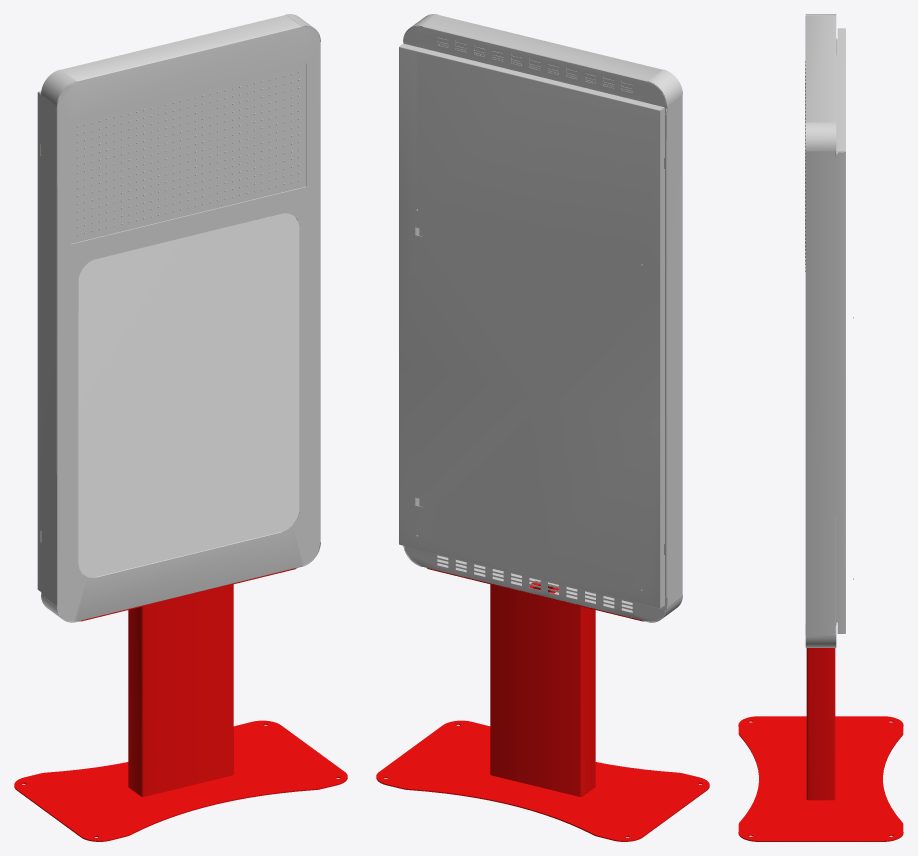
File: ledli-reklam-paneli.glb
3 renders of one model, left to right at view 1: azimuth 30°, elevation 25°; view 2: azimuth 150°, elevation 25°; view 3: azimuth 270°, elevation 25°, orthographic. The views are drawn at different scales.
Parts seen in each view (by area): view 1: body253271, body227823, body242776 (×2), body291389 (×2), body294225, body261170, body239273; view 2: body261170, body227823, body291389 (×2), body294225, body239273; view 3: body227823, body294225, body261170, body291389 (×2), body239273 (×2).
Part boxes in pixels (<box>): body253271: <box>78,213,299,577</box>; body227823: <box>41,15,320,621</box>; body242776 (×2): <box>71,63,306,243</box>; body291389 (×2): <box>128,584,233,796</box>; body294225: <box>14,720,347,841</box>; body261170: <box>37,91,58,591</box>; body239273: <box>41,69,76,105</box>; body261170: <box>399,43,664,608</box>; body227823: <box>403,15,682,621</box>; body291389 (×2): <box>490,584,595,796</box>; body294225: <box>376,720,709,841</box>; body239273: <box>647,69,682,105</box>; body227823: <box>805,16,843,635</box>; body294225: <box>738,716,903,841</box>; body261170: <box>837,28,845,633</box>; body291389 (×2): <box>806,648,835,800</box>; body239273 (×2): <box>805,122,836,647</box>.
Bounding box in the file's own units: 715 × 1900 × 400.
